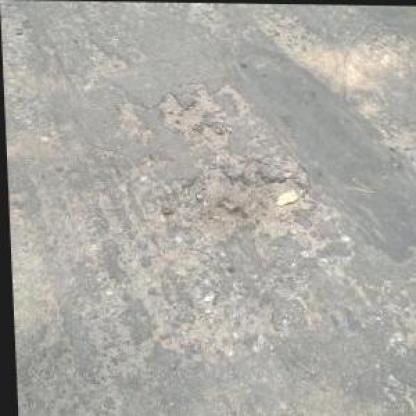pothole: (169, 158, 316, 243), (155, 82, 250, 151)
